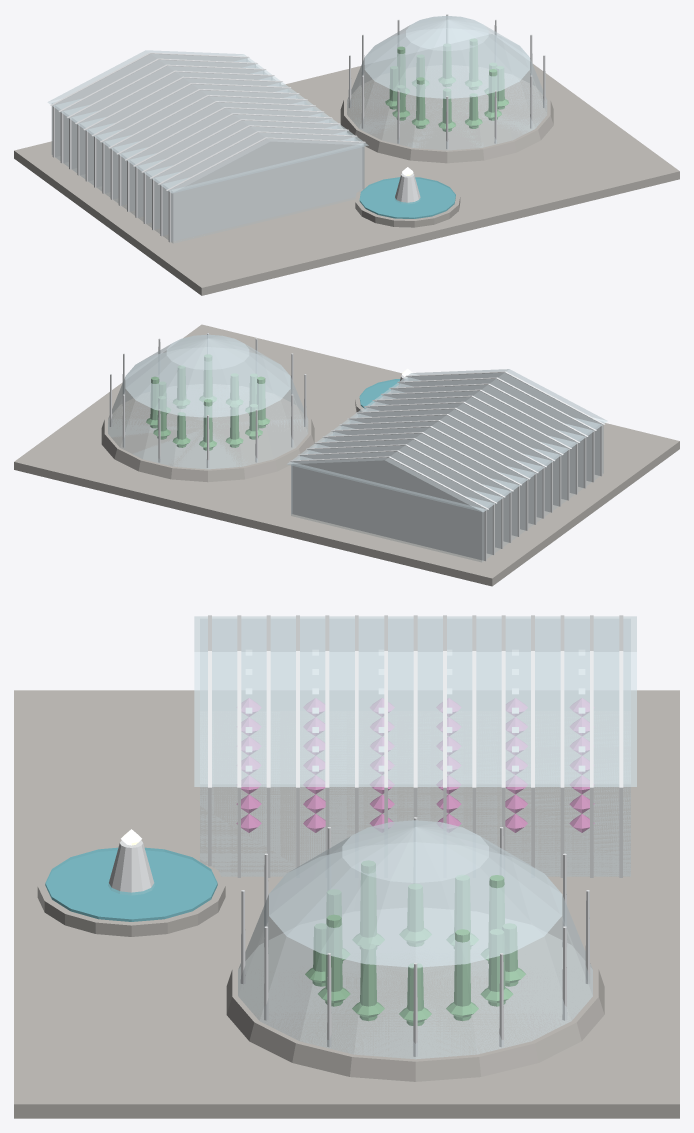
File: lm_59_vuon_hoa_tp_orchid_conservatory_and_cactus_glass_dome_kit.glb
3 views of the same model, one above another, from view 1: azimuth 30°, elevation 25°; view 2: azimuth 150°, elevation 25°; view 3: azimuth 270°, elevation 25° (orthographic). The views are drawn at different scales.
Parts seen in each view (by area): view 1: lm_59_vuon_hoa_tp_orchid_conservatory_and_cactus_glass_dome_; view 2: lm_59_vuon_hoa_tp_orchid_conservatory_and_cactus_glass_dome_; view 3: lm_59_vuon_hoa_tp_orchid_conservatory_and_cactus_glass_dome_.
Part boxes in pixels (x1=…): lm_59_vuon_hoa_tp_orchid_conservatory_and_cactus_glass_dome_: x1=14, y1=14, x2=679, y2=295; lm_59_vuon_hoa_tp_orchid_conservatory_and_cactus_glass_dome_: x1=14, y1=324, x2=679, y2=586; lm_59_vuon_hoa_tp_orchid_conservatory_and_cactus_glass_dome_: x1=14, y1=615, x2=679, y2=1118.
Bounding box in the file's own units: 50 × 10.6 × 34.
